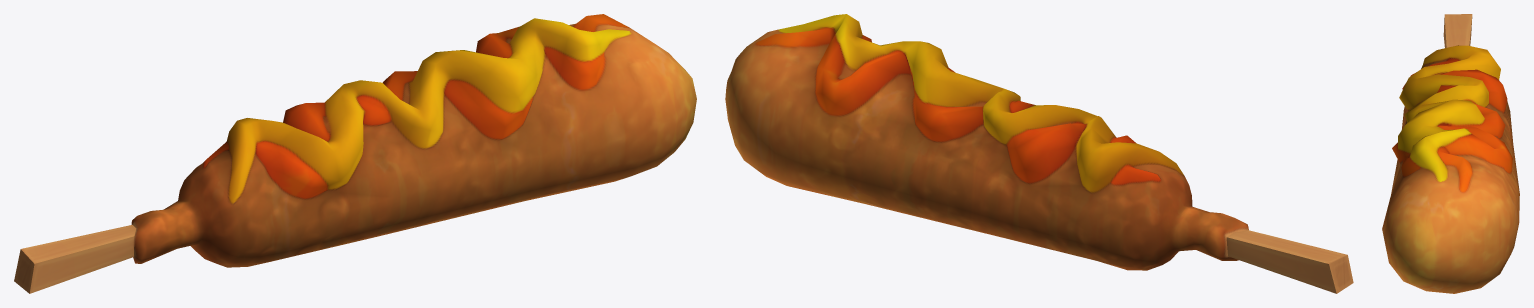
File: CornDogs.fbx
3 renders of one model, left to right at view 1: azimuth 30°, elevation 25°; view 2: azimuth 150°, elevation 25°; view 3: azimuth 270°, elevation 25°, orthographic. The views are drawn at different scales.
Parts seen in each view (by area): view 1: CornDogs; view 2: CornDogs; view 3: CornDogs.
Part boxes in pixels (left/top/right/bottom): CornDogs: left=14, top=14, right=696, bottom=293; CornDogs: left=725, top=14, right=1353, bottom=293; CornDogs: left=1382, top=14, right=1519, bottom=293.
Size of the model in its own units: 13.98 by 3.47 by 3.07.
Materials: 1 (1 with a texture image).
